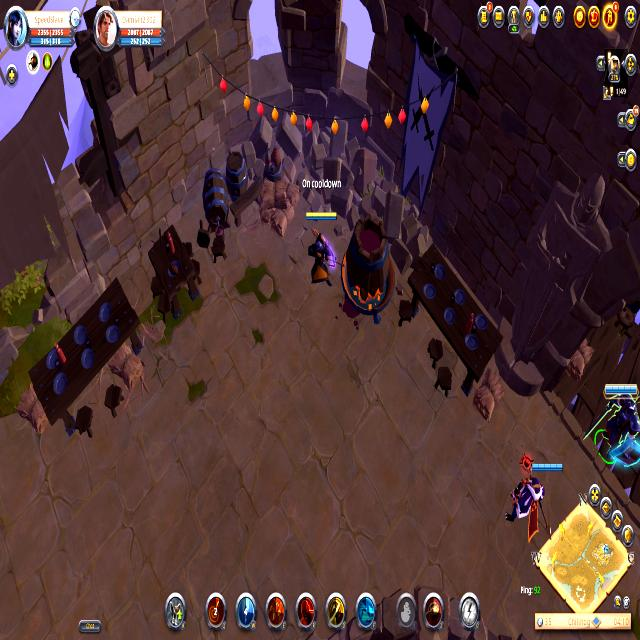red: (505, 451, 563, 533), (593, 378, 640, 465), (303, 208, 338, 288)
